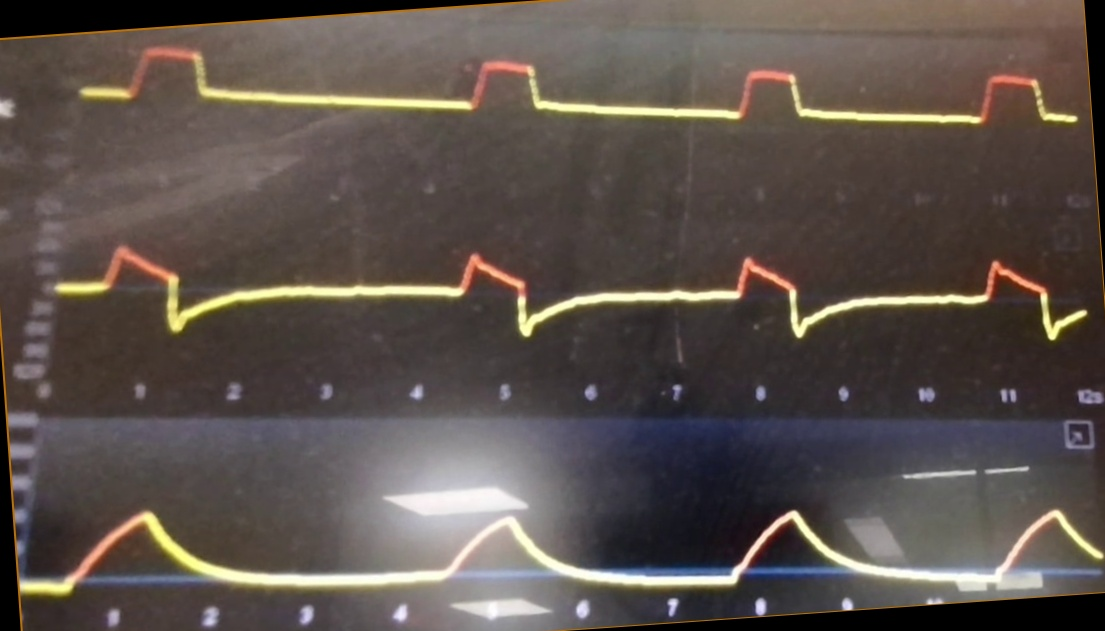Normal Flow: (53, 193, 1090, 351)
Normal Volume: (25, 456, 1105, 599)
